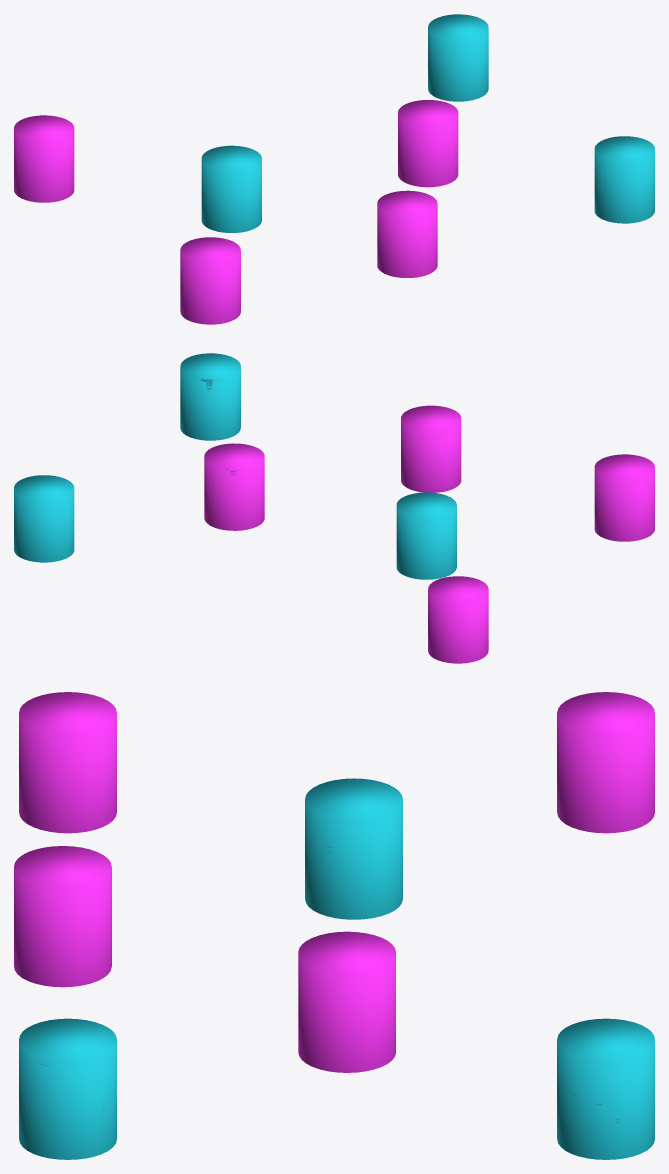
Rendered from CylindersBL.dae.
The picture shows the model from 3 angles, top to bottom: view 1: azimuth 30°, elevation 25°; view 2: azimuth 150°, elevation 25°; view 3: azimuth 270°, elevation 25°; orthographic projection. The views are drawn at different scales.
Visible parts, largest first — view 1: CylinderBL; view 2: CylinderBL; view 3: CylinderBL.
Boxes of the visible parts, x1,y1,x2,y2 form: CylinderBL: [14, 14, 654, 324]; CylinderBL: [14, 353, 654, 663]; CylinderBL: [14, 692, 654, 1159].
Size of the model in its own units: 3.57 by 2.63 by 0.4529.
Materials: 2 (2 with a texture image).
